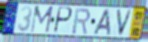3: (17, 5, 34, 34)
A: (92, 9, 111, 38)
M: (29, 6, 54, 35)
P: (52, 6, 74, 35)
R: (71, 7, 92, 36)
V: (115, 8, 133, 38)
